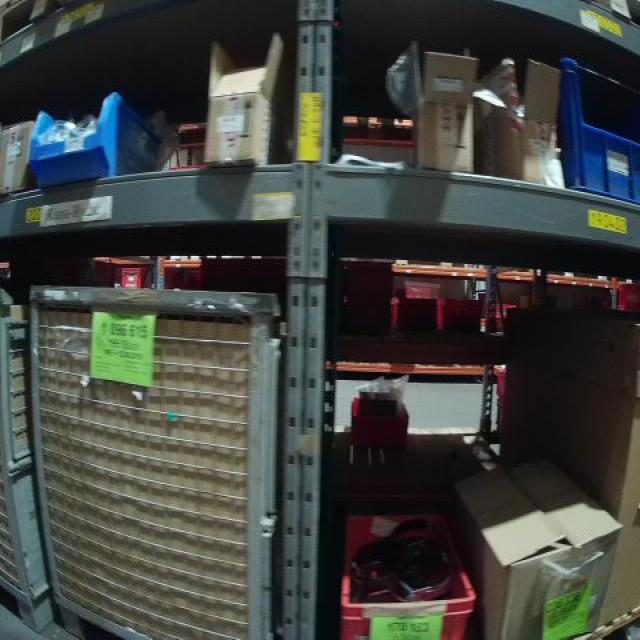small_load_carrier: (335, 495, 474, 637), (543, 56, 638, 204)
stillage: (22, 260, 282, 640), (2, 311, 57, 629)
